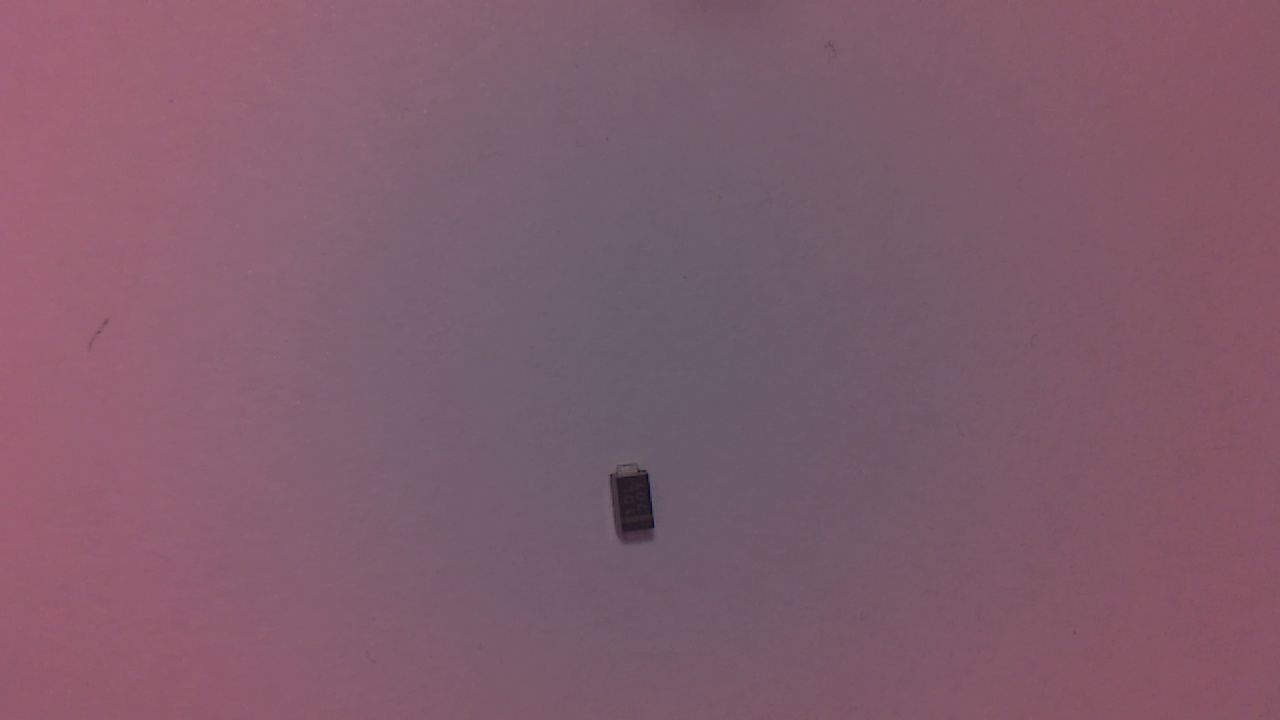Diode: (612, 465, 659, 551)
